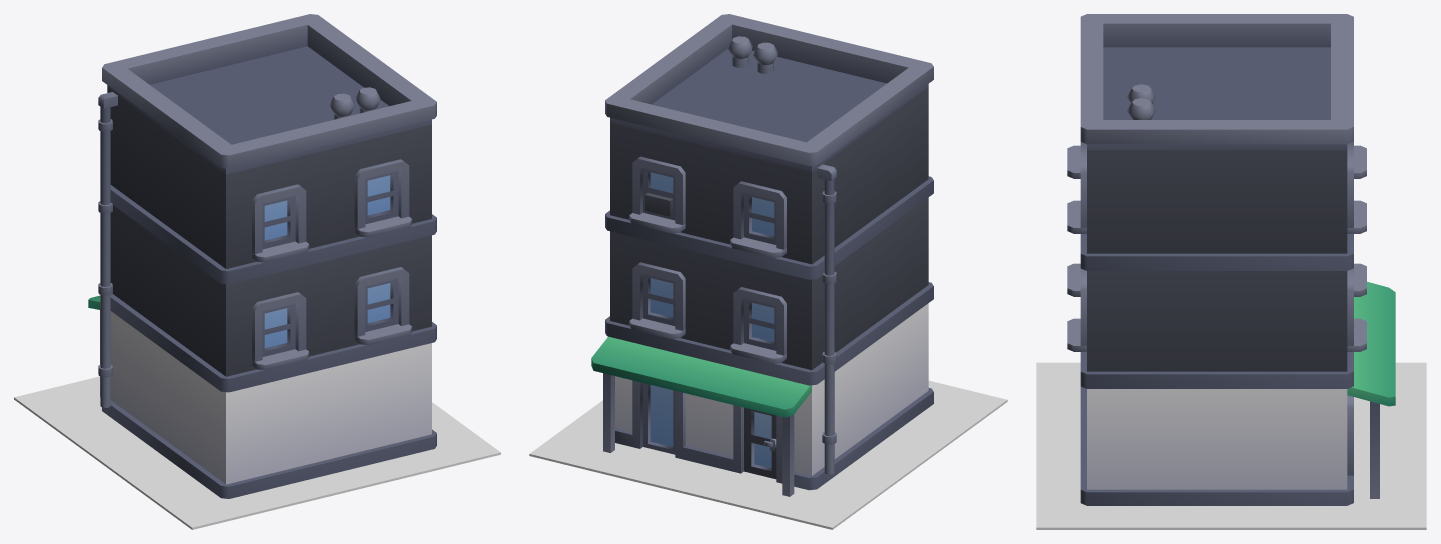
3 renders of one model, left to right at view 1: azimuth 30°, elevation 25°; view 2: azimuth 150°, elevation 25°; view 3: azimuth 270°, elevation 25°, orthographic. The views are drawn at different scales.
Visible parts, largest first — view 1: building-h, Cube; view 2: building-h, Cube; view 3: building-h, Cube.
Part boxes in pixels (x1=…): building-h: x1=88, y1=14, x2=436, y2=498; Cube: x1=14, y1=376, x2=500, y2=529; building-h: x1=591, y1=14, x2=933, y2=496; Cube: x1=529, y1=380, x2=1007, y2=529; building-h: x1=1067, y1=14, x2=1395, y2=505; Cube: x1=1036, y1=362, x2=1426, y2=529.
Size of the model in its own units: 30 by 32.42 by 30.
Materials: 2 (1 with a texture image).
